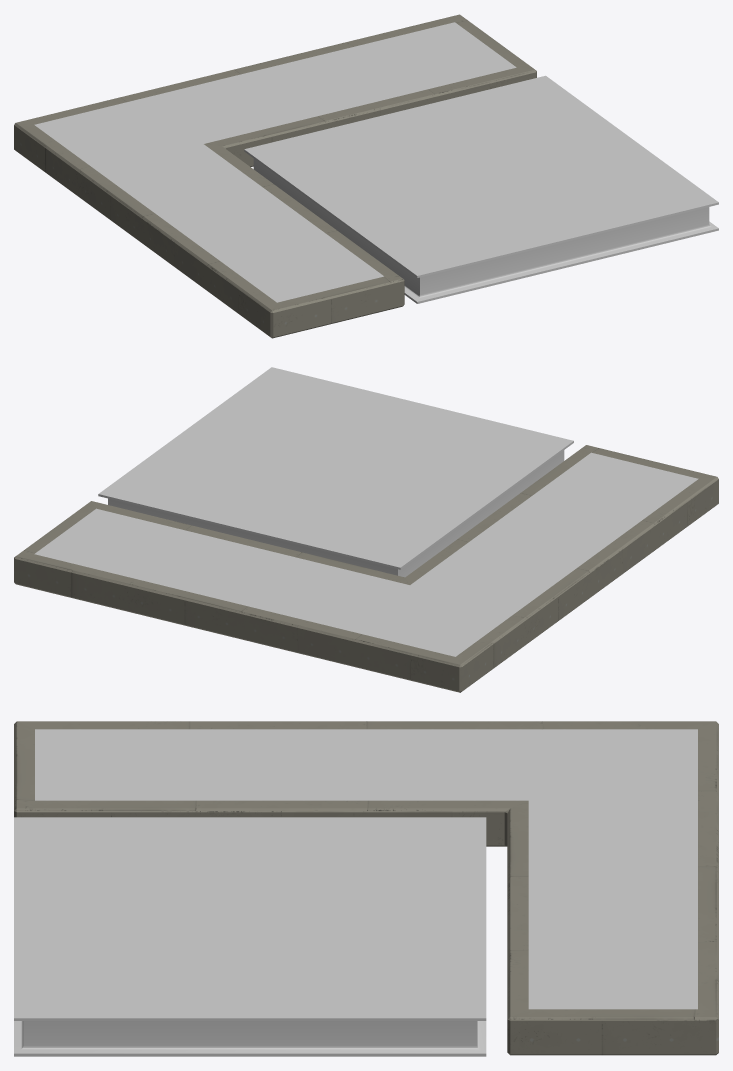
File: PlatformLargeOscY.fbx
3 views of the same model, one above another, from view 1: azimuth 30°, elevation 25°; view 2: azimuth 150°, elevation 25°; view 3: azimuth 270°, elevation 25° (orthographic). The views are drawn at different scales.
Parts seen in each view (by area): view 1: PlatformLargeOscY; view 2: PlatformLargeOscY; view 3: PlatformLargeOscY.
Part boxes in pixels (x1,y1,x2,y2): PlatformLargeOscY: [14, 14, 718, 338]; PlatformLargeOscY: [14, 367, 718, 692]; PlatformLargeOscY: [14, 721, 718, 1056].
Bounding box in the file's own units: 500 × 30 × 500.
